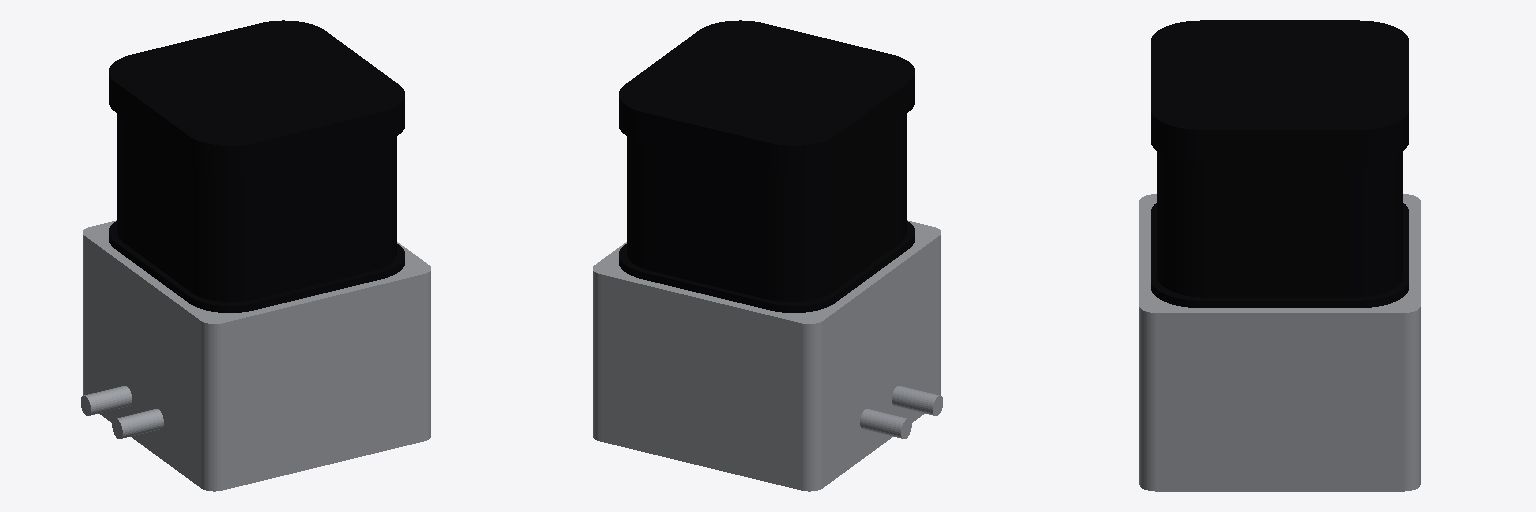
URDF robot description (ust_10lx):
<?xml version="1.0"?>
<!--
  ust-10lx: 北陽電機 UST-10LX (測域センサ、2D LiDAR) の自作マッシングモデル (CC0-1.0)。

  ============================================================================
  **これは北陽電機の CAD ではない。** 北陽の 2D/3D CAD は会員ログインの先にあり
  再配布条件を判断できないため、公開外形図 (製品ページの外形図 PNG) と仕様書
  (C-42-04077) の公表値に合わせて botrail-assets が独自に著作した簡略形状である。
  実寸 CAD が要る用途には北陽の会員ダウンロードを使うこと。
  ============================================================================

  参照実機から採った値 (公表値):
    - 外形 50 (W) x 50 (D) x 70 (H) mm (本体のみ)、質量 130 g (ケーブル除く)
    - 下部筐体 (アルミ) 高さ 35、上部 (ポリカーボネート) の光学窓 28.7
    - 走査中心 (受光部) は底面から 47.4 mm、走査角 270 度 (背面側 90 度が死角)
    - 底面取付 4-M3 深さ 6 (40 x 40 mm ピッチ)、位置決め 2-φ3
    - 背面 2-M4 深さ 6 (24 mm ピッチ)
  当方設計 (実機の写しではない): 角丸、上部の丸み、窓帯の凹み、ケーブル付け根。

  座標系 (botrail の lidar 規約 = ROS laser 規約):
    - mount = root = 底面中心 (実機は底面 4-M3 で取付。放熱のため底面を
      アルミ板に密着させる指示あり)
    - laser = 走査焦点、底面の 47.4 mm 上。+X = 走査正面 (0 度)、スキャン面 = XY、
      ケーブル引き出しが -X (背面)。回転補正は要らない。

  visual: tools/generate_meshes.py が生成する ../meshes/{base,head}.stl
  collision: URDF プリミティブ 2 箱 (下部 50x50x35 / 上部 46x46x35)
-->
<robot name="ust_10lx">

  <material name="ust_aluminium">
    <color rgba="0.62 0.63 0.65 1"/>
  </material>
  <material name="ust_black">
    <color rgba="0.06 0.06 0.07 1"/>
  </material>

  <link name="mount"/>

  <joint name="mount_to_body" type="fixed">
    <parent link="mount"/>
    <child link="body"/>
    <origin xyz="0 0 0" rpy="0 0 0"/>
  </joint>

  <link name="body">
    <visual>
      <geometry>
        <mesh filename="../meshes/base.stl"/>
      </geometry>
      <material name="ust_aluminium"/>
    </visual>
    <visual>
      <geometry>
        <mesh filename="../meshes/head.stl"/>
      </geometry>
      <material name="ust_black"/>
    </visual>
    <collision><!-- 下部筐体 50 x 50 x 35 -->
      <origin xyz="0 0 0.0175"/>
      <geometry><box size="0.050 0.050 0.035"/></geometry>
    </collision>
    <collision><!-- 上部 46 x 46 x 35 (窓帯 + 天面) -->
      <origin xyz="0 0 0.0525"/>
      <geometry><box size="0.046 0.046 0.035"/></geometry>
    </collision>
    <inertial>
      <!-- 130 g (公表値)。慣性は 50 x 50 x 70 の中実直方体近似、重心は幾何中心 -->
      <mass value="0.130"/>
      <origin xyz="0 0 0.035"/>
      <inertia ixx="8.02e-5" ixy="0" ixz="0" iyy="8.02e-5" iyz="0" izz="5.42e-5"/>
    </inertial>
  </link>

  <joint name="body_to_laser" type="fixed">
    <parent link="body"/>
    <child link="laser"/>
    <origin xyz="0 0 0.0474" rpy="0 0 0"/>
  </joint>

  <link name="laser"/>

</robot>

--- Render facts (derived) ---
The picture shows the robot from 3 angles, left to right: view 1: azimuth 30°, elevation 25°; view 2: azimuth 150°, elevation 25°; view 3: azimuth 270°, elevation 25°; orthographic projection.
Model ust_10lx with 3 links and 2 joints (2 fixed), rooted at mount, posed every joint at zero.
Links seen in each view (by area): view 1: body; view 2: body; view 3: body.
Boxes of the visible links, x1,y1,x2,y2 form: body: (81, 20, 430, 491); body: (593, 20, 942, 491); body: (1139, 20, 1420, 491).
Size in the robot's own frame: 0.059 by 0.05 by 0.07 metres.
2 mesh visuals loaded from 2 distinct referenced files (2 binary STL).
